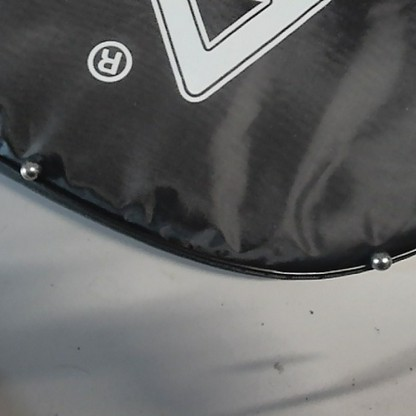ironball: (20, 160, 38, 180), (372, 250, 388, 271)
